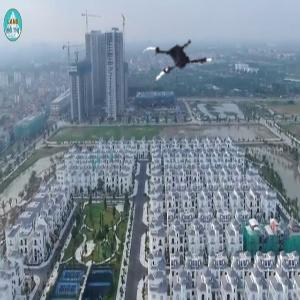drone: (140, 27, 214, 101)
